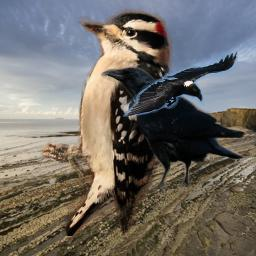Crow: (101, 65, 246, 197), (123, 50, 238, 117)
Woodpecker: (39, 6, 174, 236)
